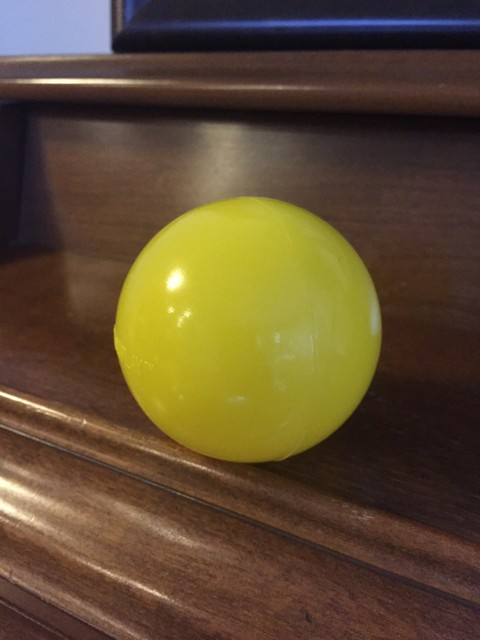ball: (111, 196, 387, 464)
